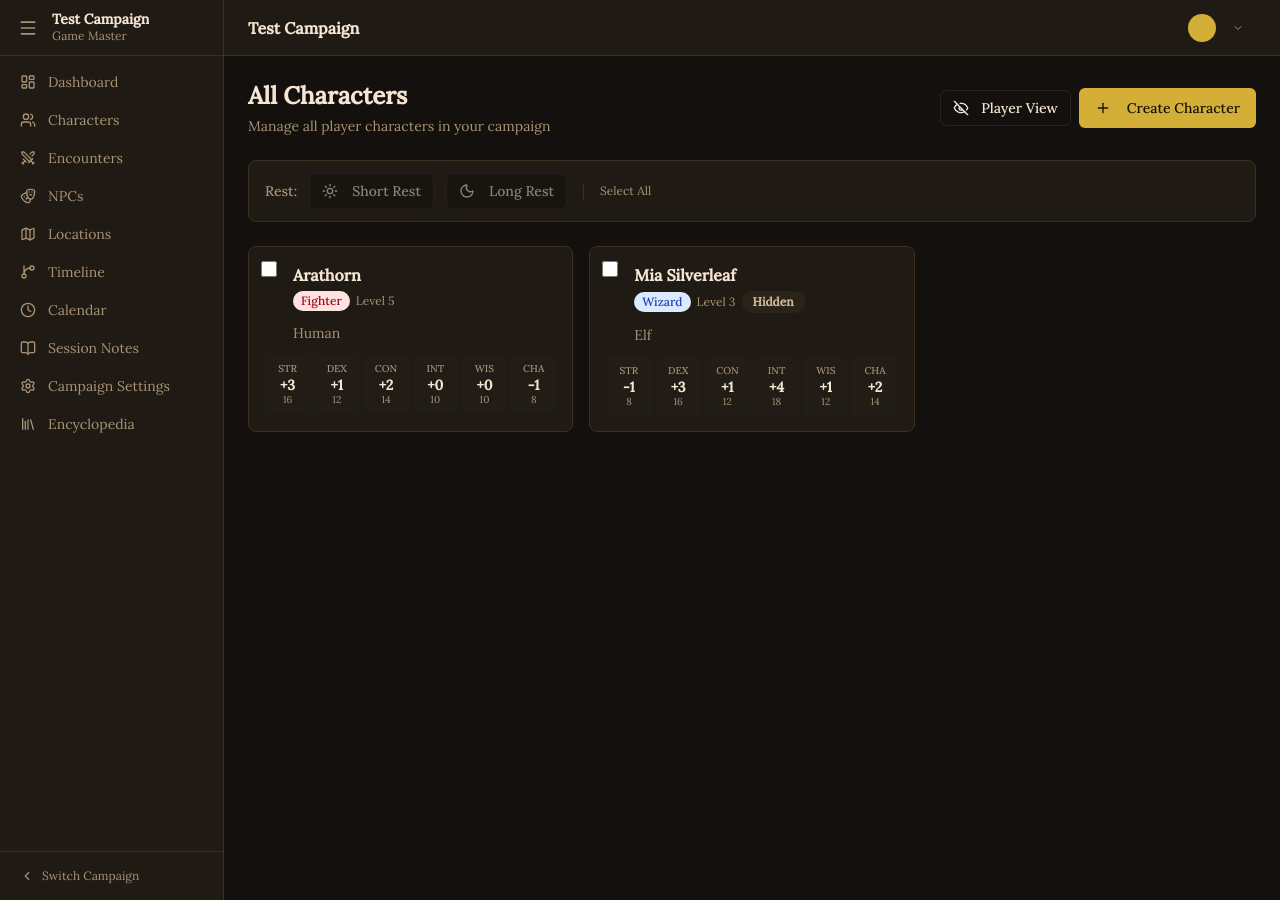
Test: CharacterList — rest buttons (GM view) › Select All then Deselect All clears selection
Expected: the heading "Arathorn" is shown, left=293, top=265, right=361, bottom=285
Click the button with test id "select-all-btn" at (626, 191), box left=600, top=183, right=651, bottom=199
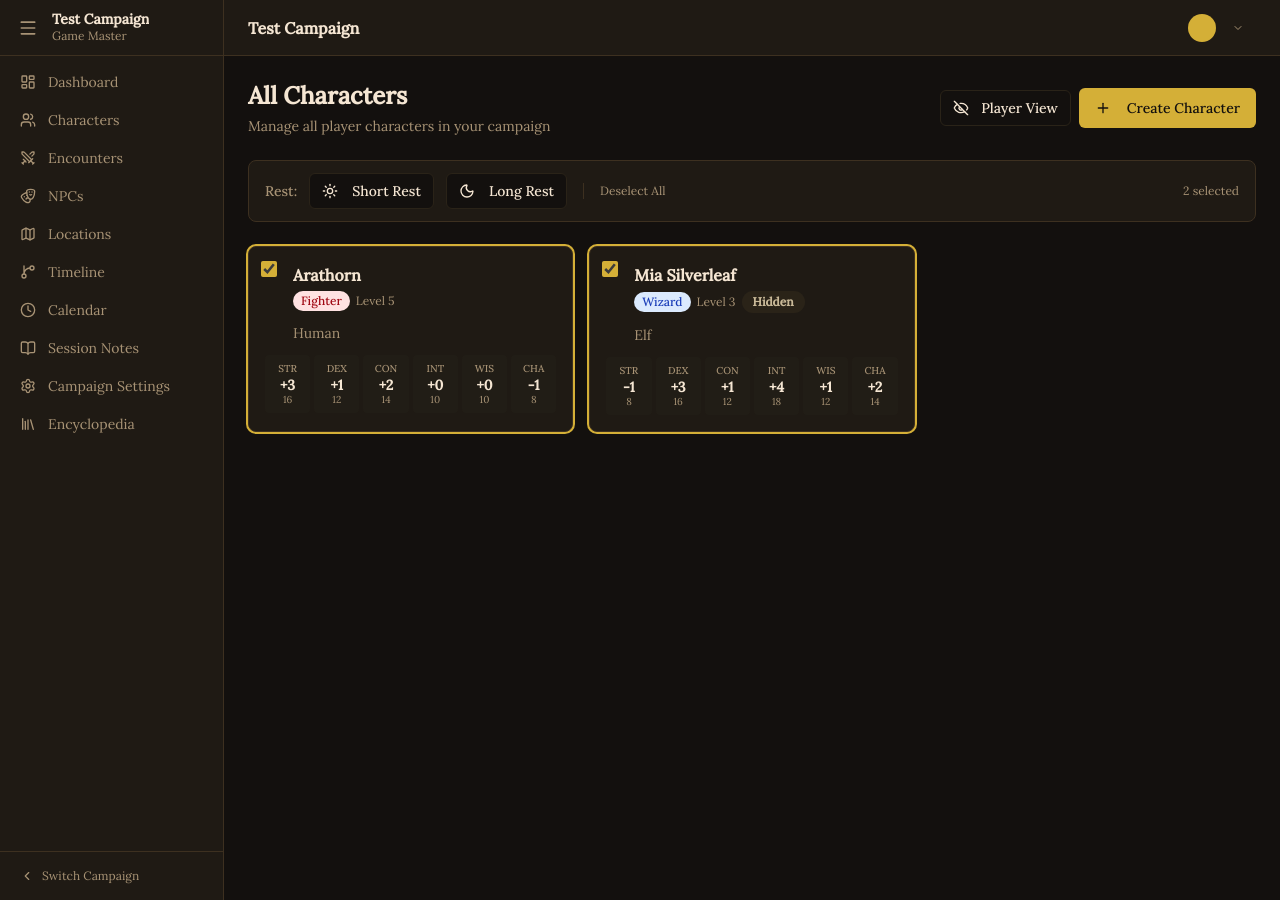
Click the button with test id "select-all-btn" at (633, 191), box left=600, top=183, right=665, bottom=199
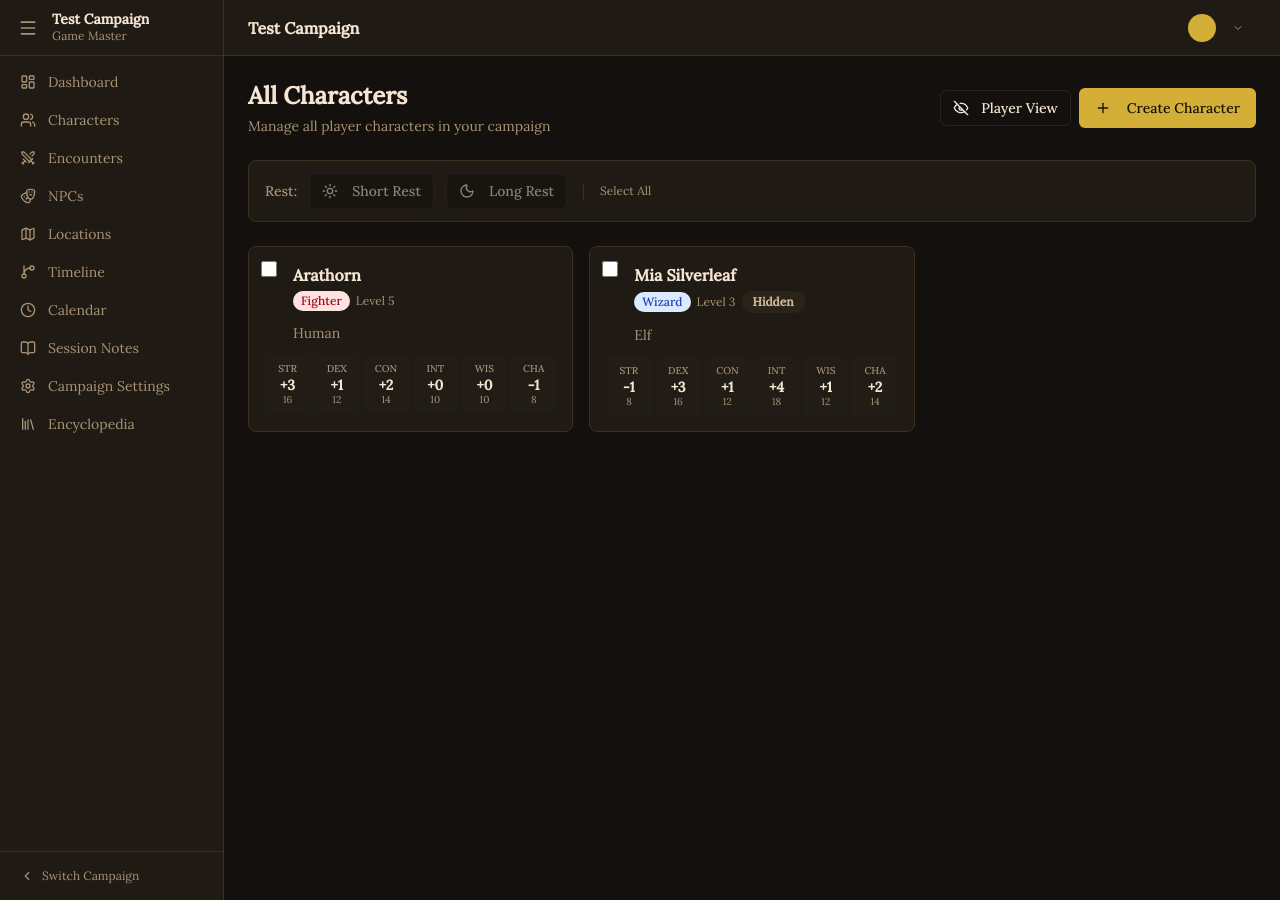
Result: the checkbox with test id "char-checkbox-1" is not checked at left=261, top=261, right=277, bottom=277
